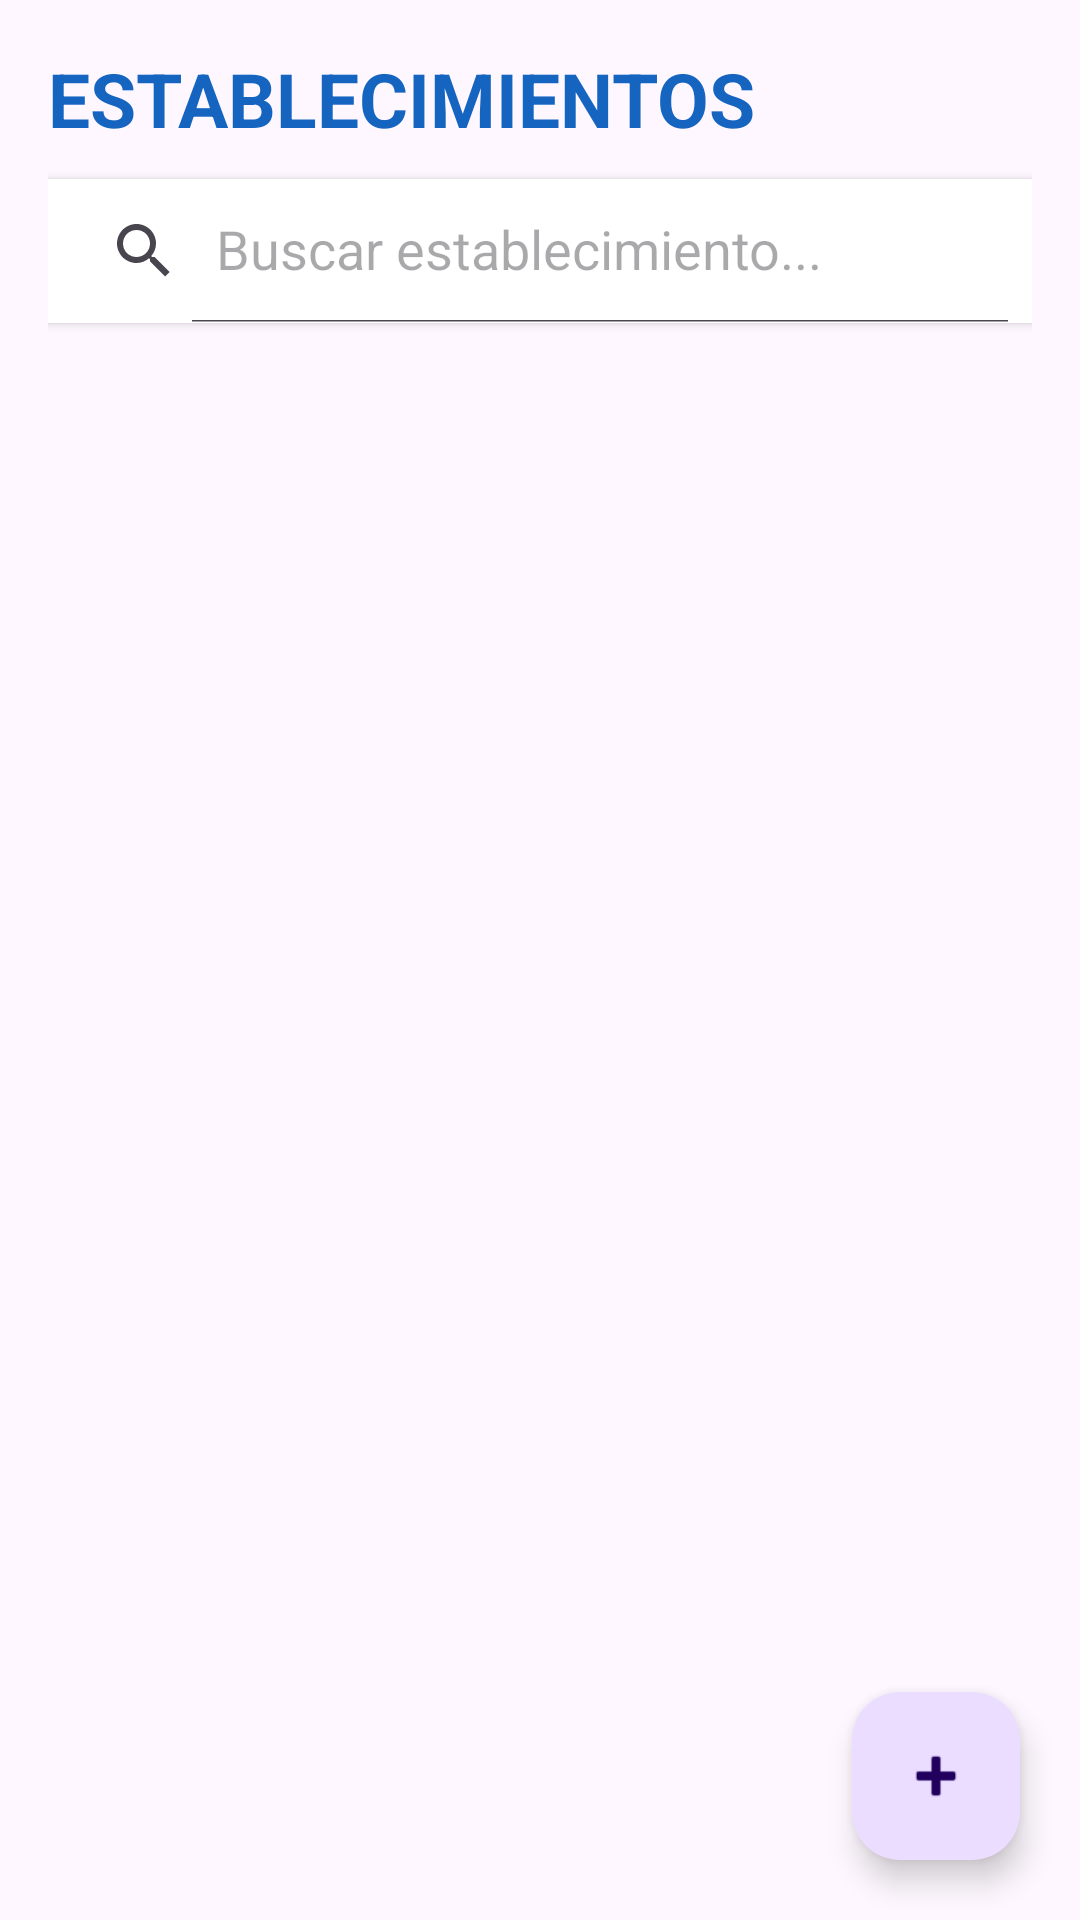

Named icons in this screenshot (1080×1920) and their centers, (x=x, y=y):
Agregar establecimiento: (x=936, y=1776)
